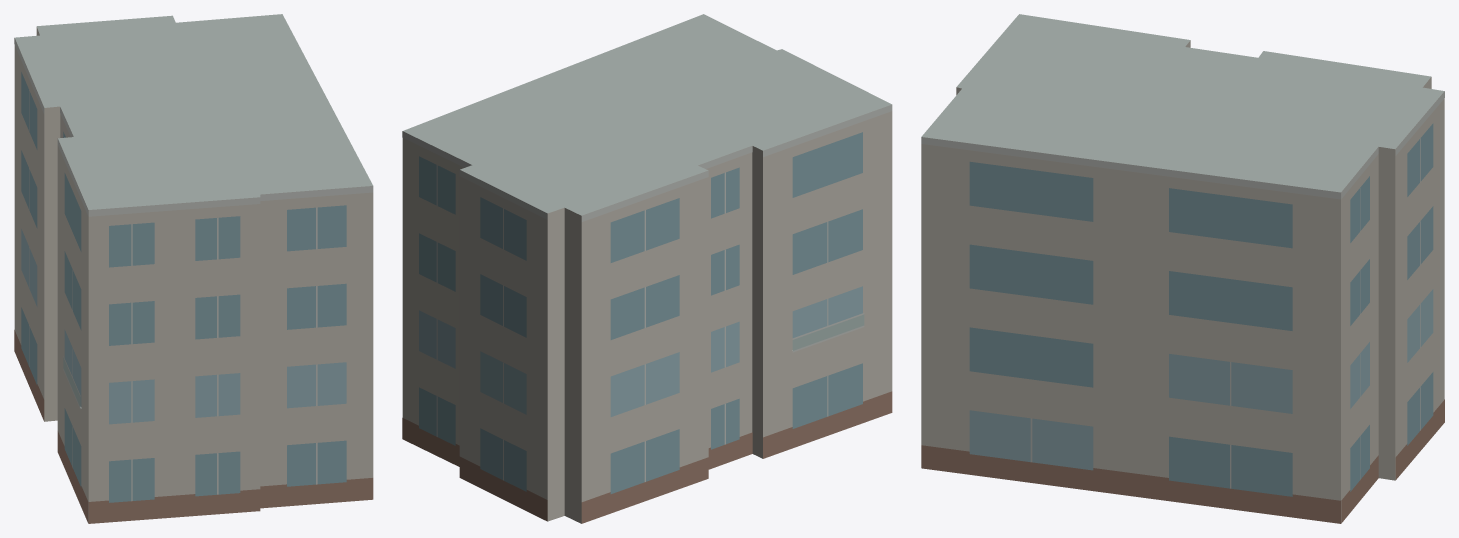
The model's file is survey-upis-32890006.glb.
3 renders of one model, left to right at view 1: azimuth 30°, elevation 25°; view 2: azimuth 150°, elevation 25°; view 3: azimuth 270°, elevation 25°, orthographic. The views are drawn at different scales.
Parts seen in each view (by area): view 1: survey-upis-32890006.tmp; view 2: survey-upis-32890006.tmp; view 3: survey-upis-32890006.tmp.
Boxes of the visible parts, x1,y1,x2,y2 form: survey-upis-32890006.tmp: (14, 14, 373, 523); survey-upis-32890006.tmp: (402, 14, 892, 523); survey-upis-32890006.tmp: (921, 14, 1444, 523).
Bounding box in the file's own units: 13.29 × 11.5 × 16.47.
